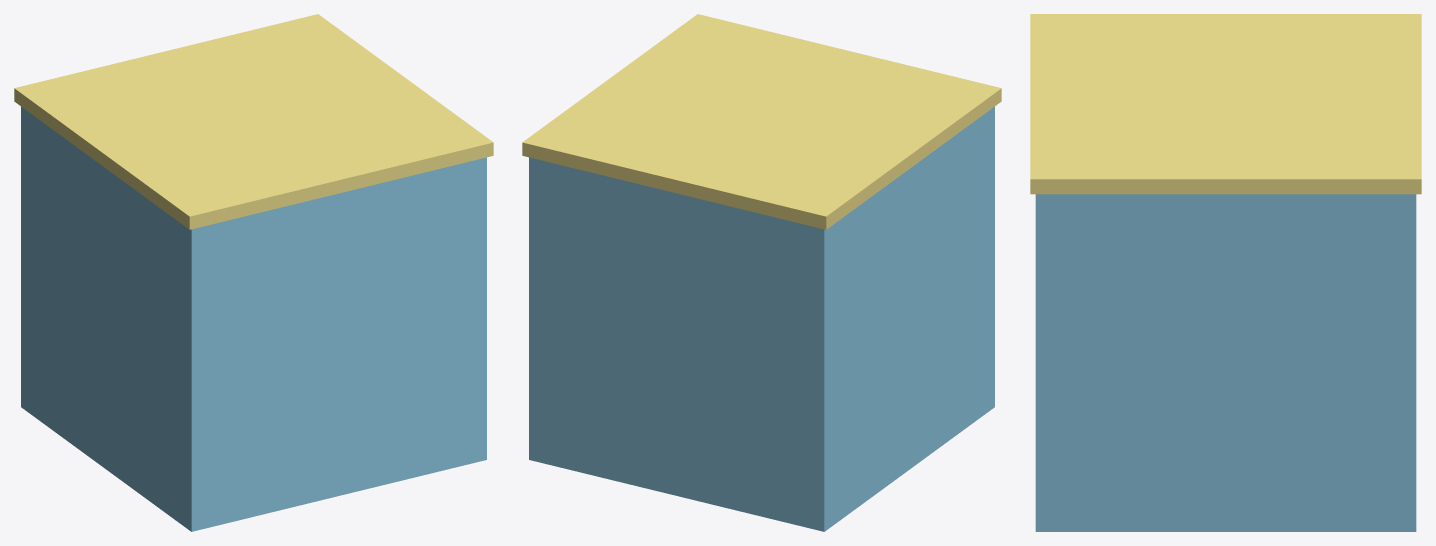
The picture shows the model from 3 angles, left to right: view 1: azimuth 30°, elevation 25°; view 2: azimuth 150°, elevation 25°; view 3: azimuth 270°, elevation 25°; orthographic projection. The views are drawn at different scales.
Visible parts, largest first — view 1: cube, edge_highlight; view 2: cube, edge_highlight; view 3: cube, edge_highlight.
Part boxes in pixels (box(x1,y1,x2,y2)): cube: box(21, 106, 486, 531); edge_highlight: box(14, 14, 493, 229); cube: box(529, 106, 994, 531); edge_highlight: box(522, 14, 1001, 229); cube: box(1035, 194, 1416, 531); edge_highlight: box(1030, 14, 1421, 194).
Size of the model in its own units: 1.15 by 1.15 by 1.15.
